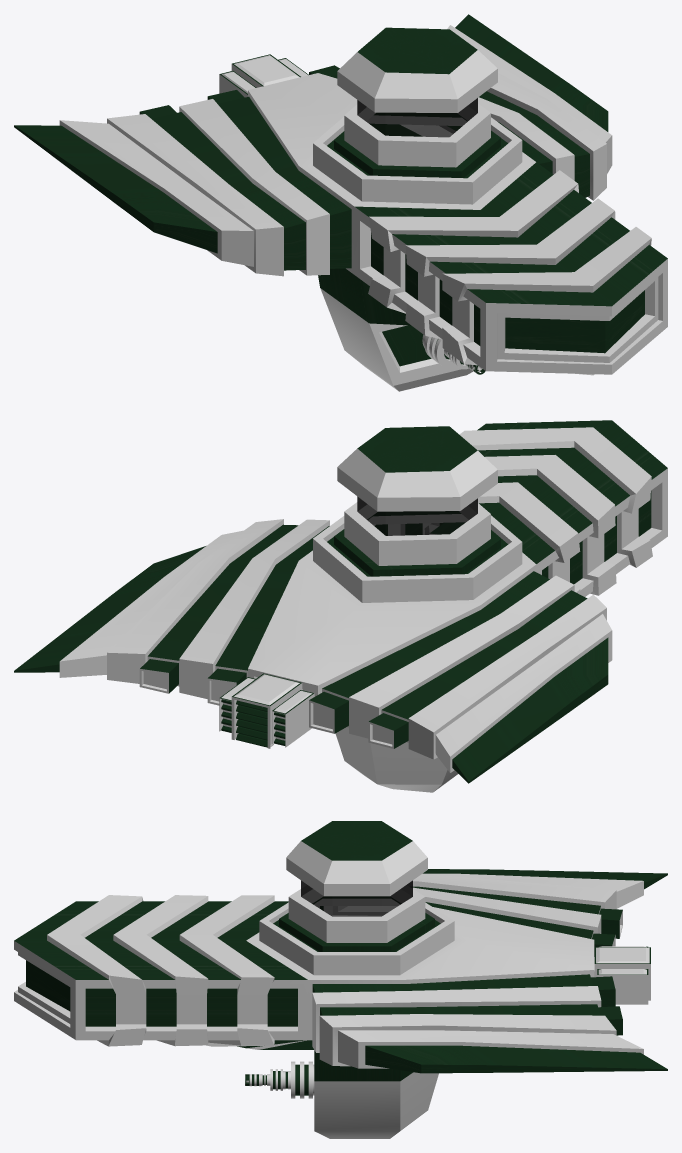
The model's file is DEA.fbx.
The picture shows the model from 3 angles, top to bottom: view 1: azimuth 30°, elevation 25°; view 2: azimuth 150°, elevation 25°; view 3: azimuth 270°, elevation 25°; orthographic projection. The views are drawn at different scales.
Parts seen in each view (by area): view 1: DEA; view 2: DEA; view 3: DEA.
Part boxes in pixels (x1,y1,x2,y2): DEA: [14, 14, 667, 391]; DEA: [14, 420, 667, 792]; DEA: [14, 821, 667, 1138].
Size of the model in its own units: 6.01 by 4.06 by 8.49.
